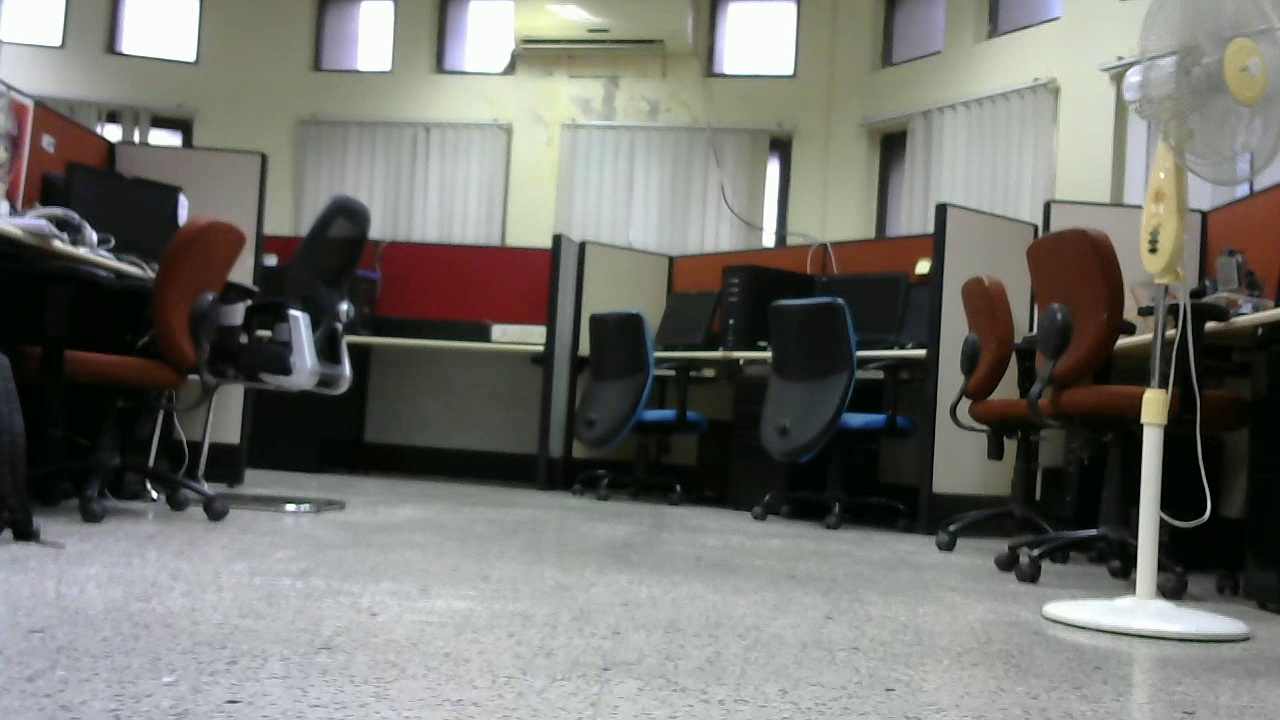chair: (1009, 226, 1229, 588), (76, 214, 226, 524), (737, 294, 926, 530), (229, 192, 372, 502), (930, 274, 1075, 562), (558, 313, 718, 510)
